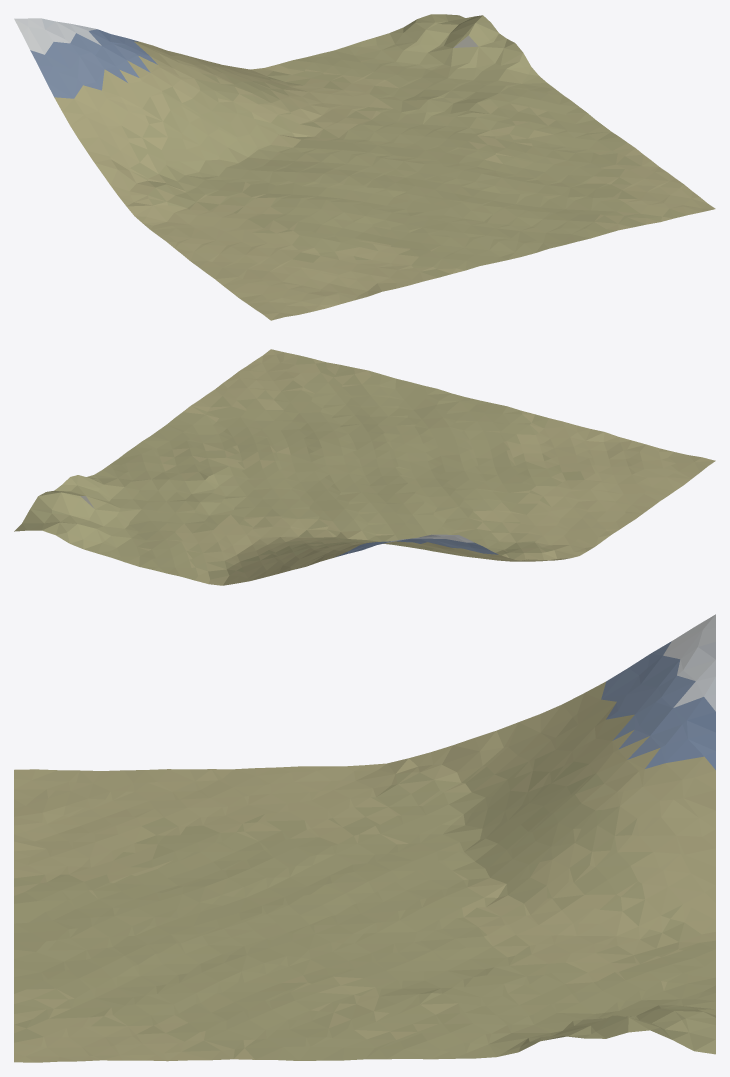
File: Ground_6_-3.glb
The picture shows the model from 3 angles, top to bottom: view 1: azimuth 30°, elevation 25°; view 2: azimuth 150°, elevation 25°; view 3: azimuth 270°, elevation 25°; orthographic projection. The views are drawn at different scales.
Parts seen in each view (by area): view 1: Ground_6_-3; view 2: Ground_6_-3; view 3: Ground_6_-3.
Boxes of the visible parts, left/top/right/bottom form: Ground_6_-3: left=14, top=14, right=715, bottom=320; Ground_6_-3: left=14, top=349, right=715, bottom=585; Ground_6_-3: left=14, top=614, right=715, bottom=1062.
Size of the model in its own units: 768 by 190 by 768.
